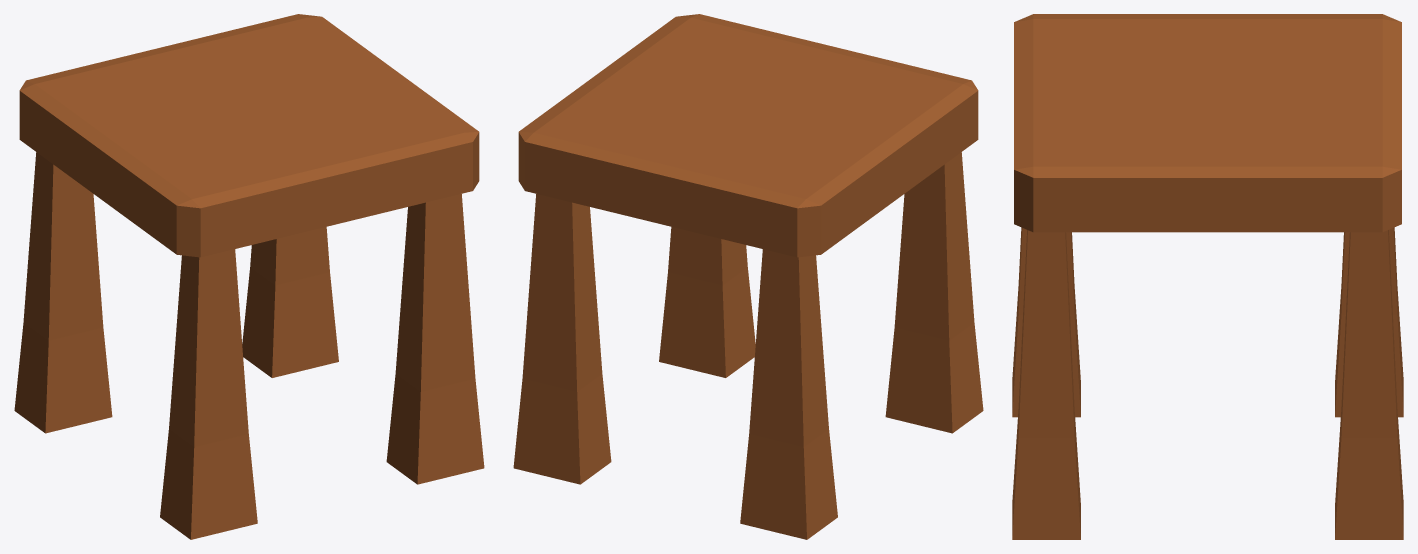
Rendered from Asset_tableSmall.fbx.
The picture shows the model from 3 angles, left to right: view 1: azimuth 30°, elevation 25°; view 2: azimuth 150°, elevation 25°; view 3: azimuth 270°, elevation 25°; orthographic projection. The views are drawn at different scales.
Parts seen in each view (by area): view 1: Cube.045, Cube.049; view 2: Cube.045, Cube.049; view 3: Cube.045, Cube.049.
Boxes of the visible parts, x1,y1,x2,y2 form: Cube.045: (19, 14, 479, 257); Cube.049: (14, 152, 484, 539); Cube.045: (518, 14, 978, 257); Cube.049: (513, 152, 983, 539); Cube.045: (1014, 14, 1401, 232); Cube.049: (1012, 227, 1403, 539).
Bounding box in the file's own units: 30.46 × 31.85 × 30.75.
Materials: 1 (1 with a texture image).
